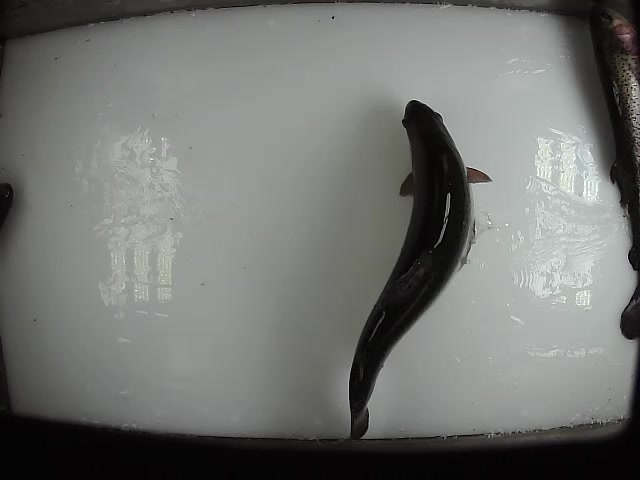fish: (341, 96, 497, 440), (583, 1, 640, 341)
